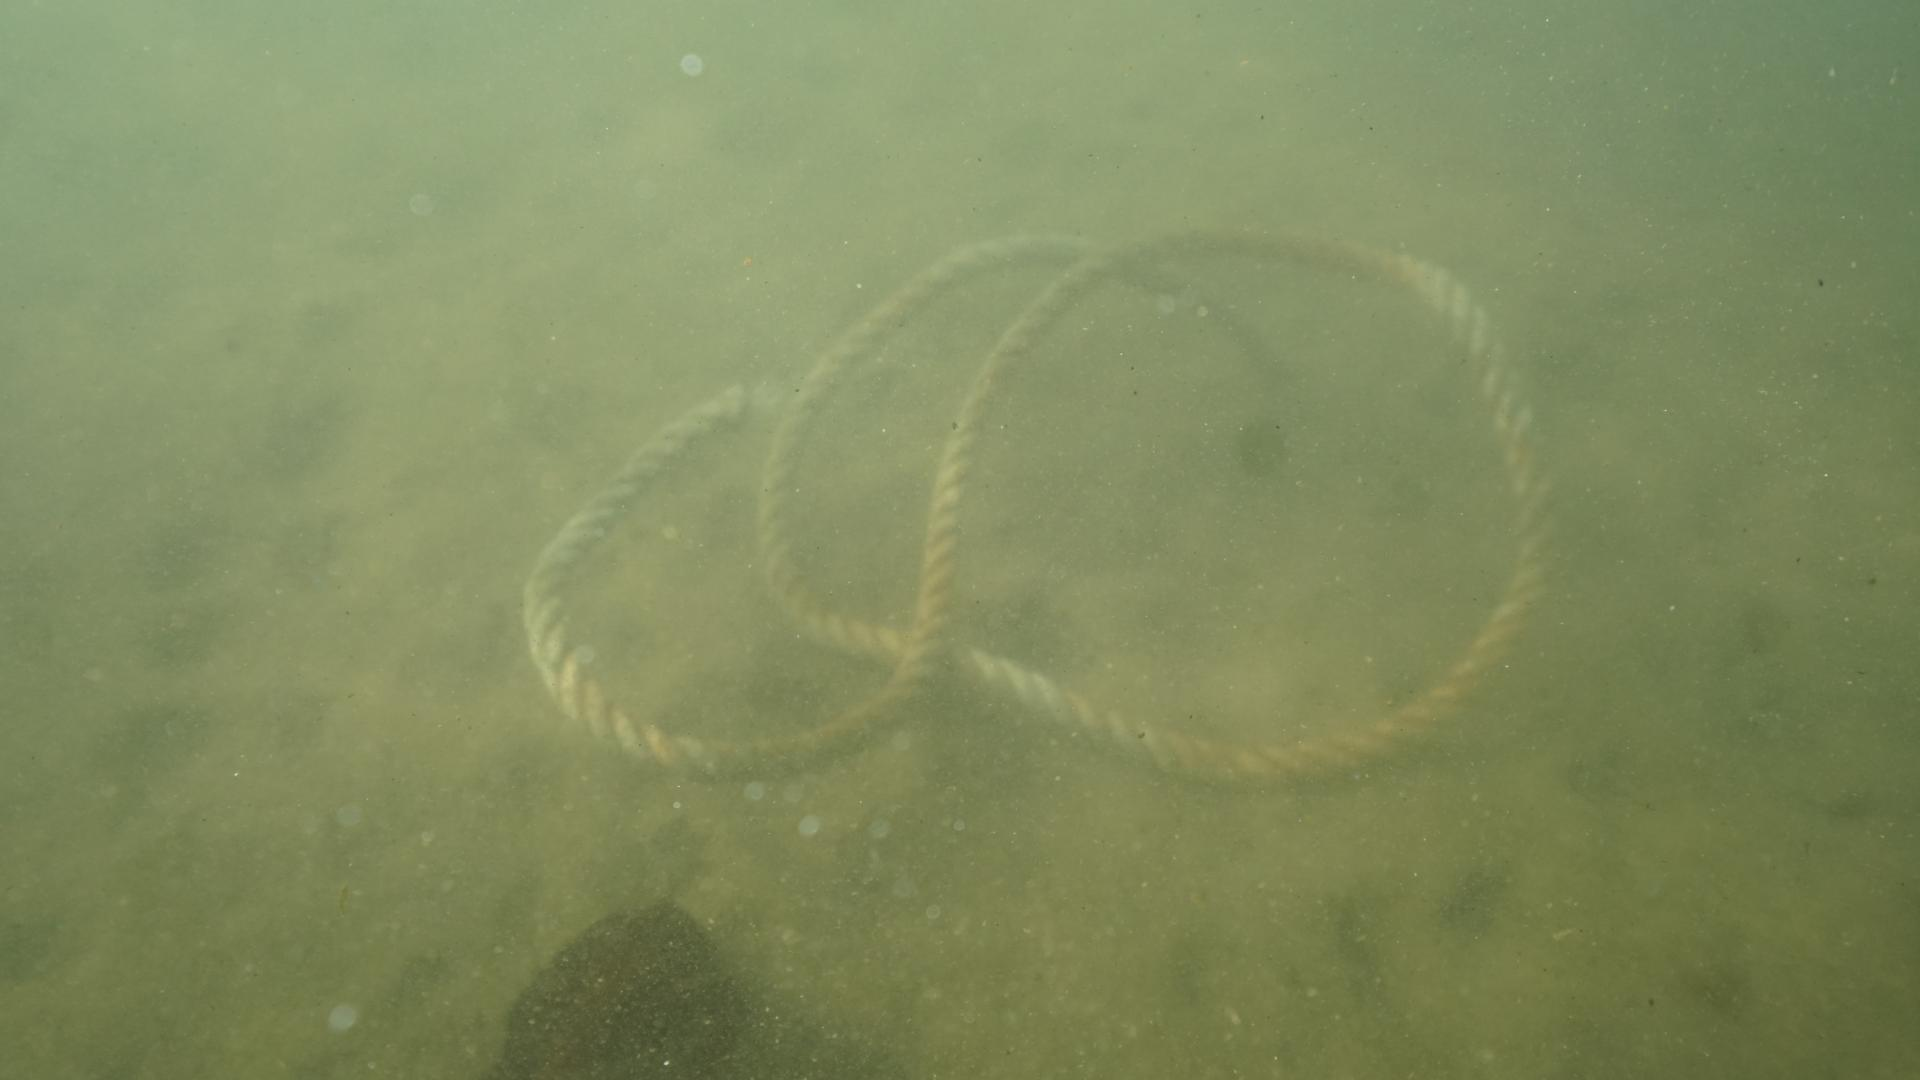rope: (520, 215, 1565, 796)
